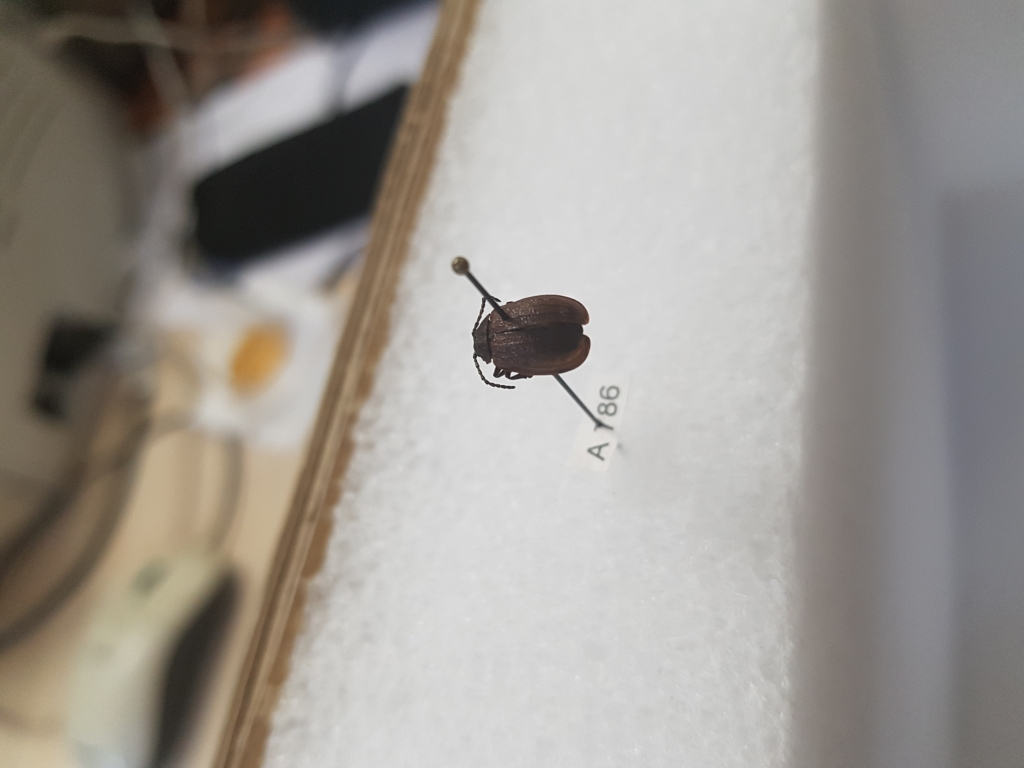Galeruca_tanaceti: (470, 290, 598, 389)
